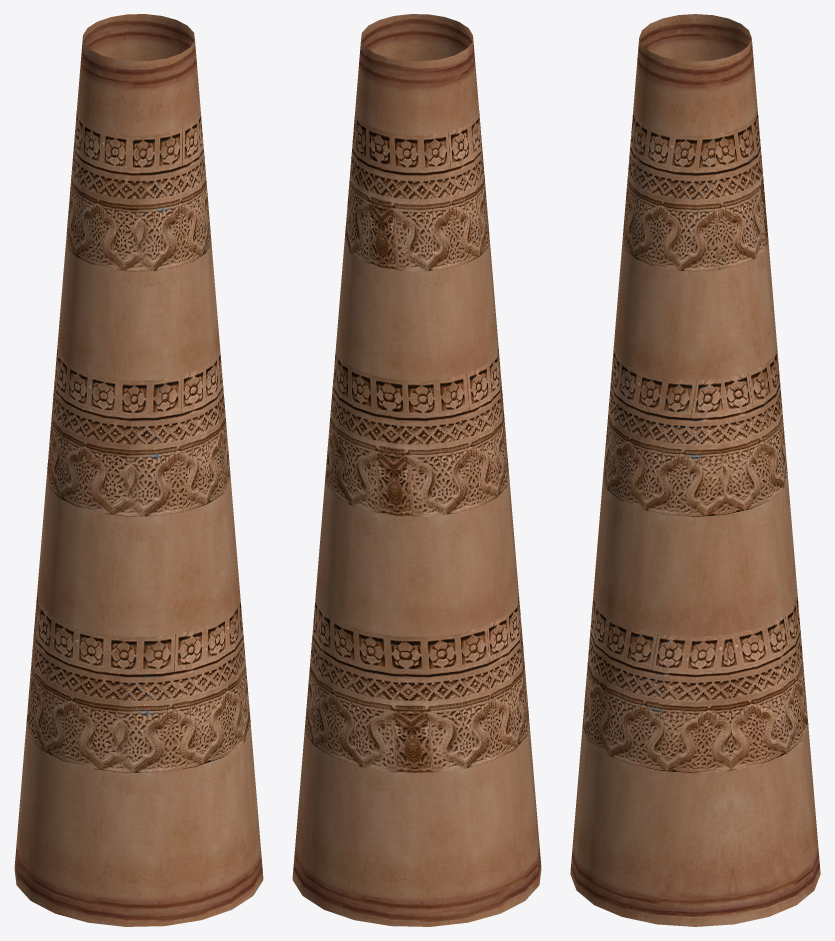
Rendered from kuyubminar.fbx.
The picture shows the model from 3 angles, left to right: view 1: azimuth 30°, elevation 25°; view 2: azimuth 150°, elevation 25°; view 3: azimuth 270°, elevation 25°; orthographic projection.
Visible parts, largest first — view 1: pCylinder15; view 2: pCylinder15; view 3: pCylinder15.
Part boxes in pixels (bbox=[...]): pCylinder15: bbox=[14, 14, 263, 926]; pCylinder15: bbox=[292, 14, 541, 926]; pCylinder15: bbox=[570, 14, 820, 926].
Bounding box in the file's own units: 90.91 × 335 × 90.91.
